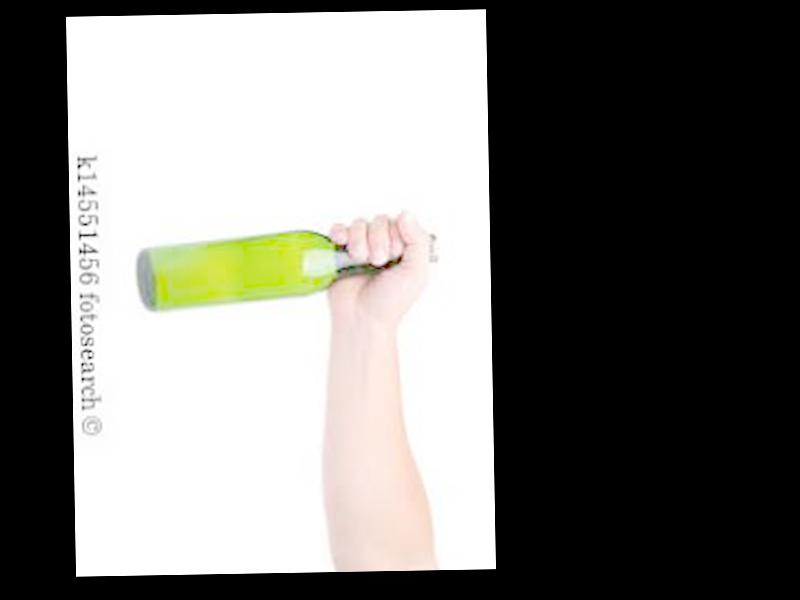Beer: (135, 228, 437, 313)
